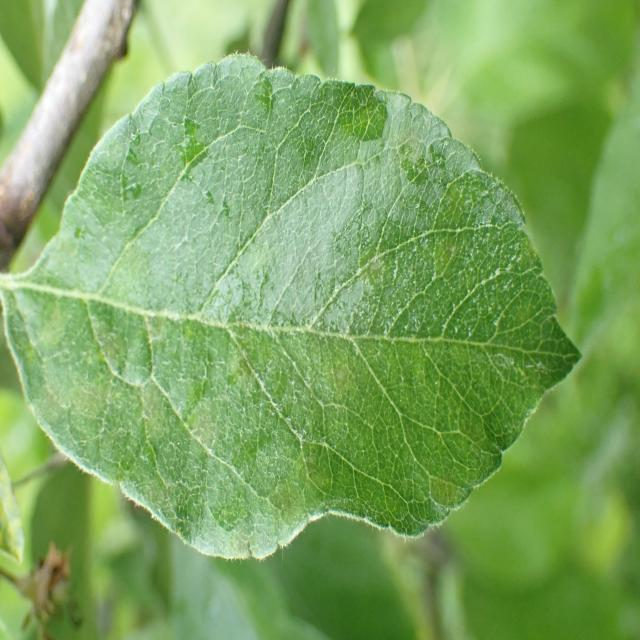scab: (24, 145, 528, 576)
